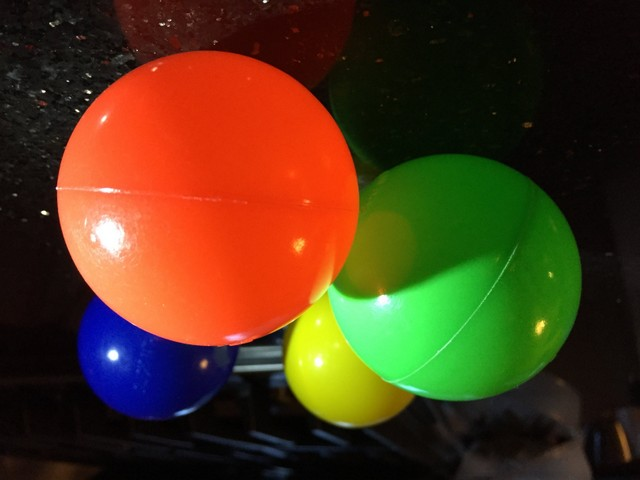Ball: (327, 154, 584, 399)
